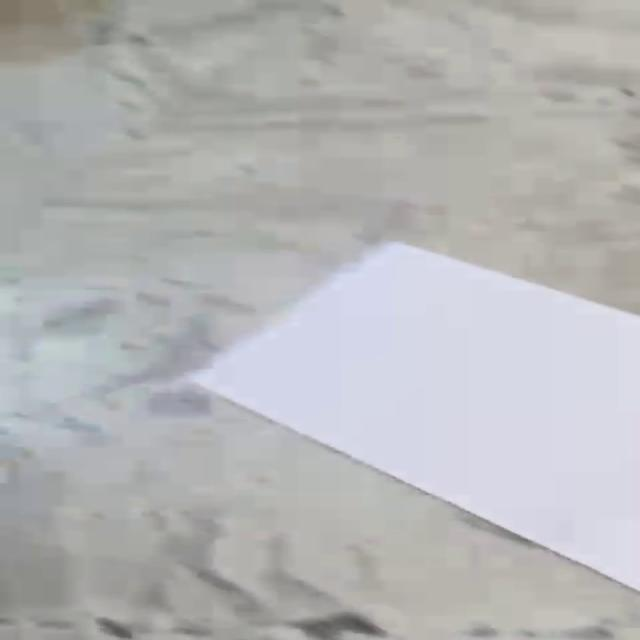road: (196, 242, 640, 593)
